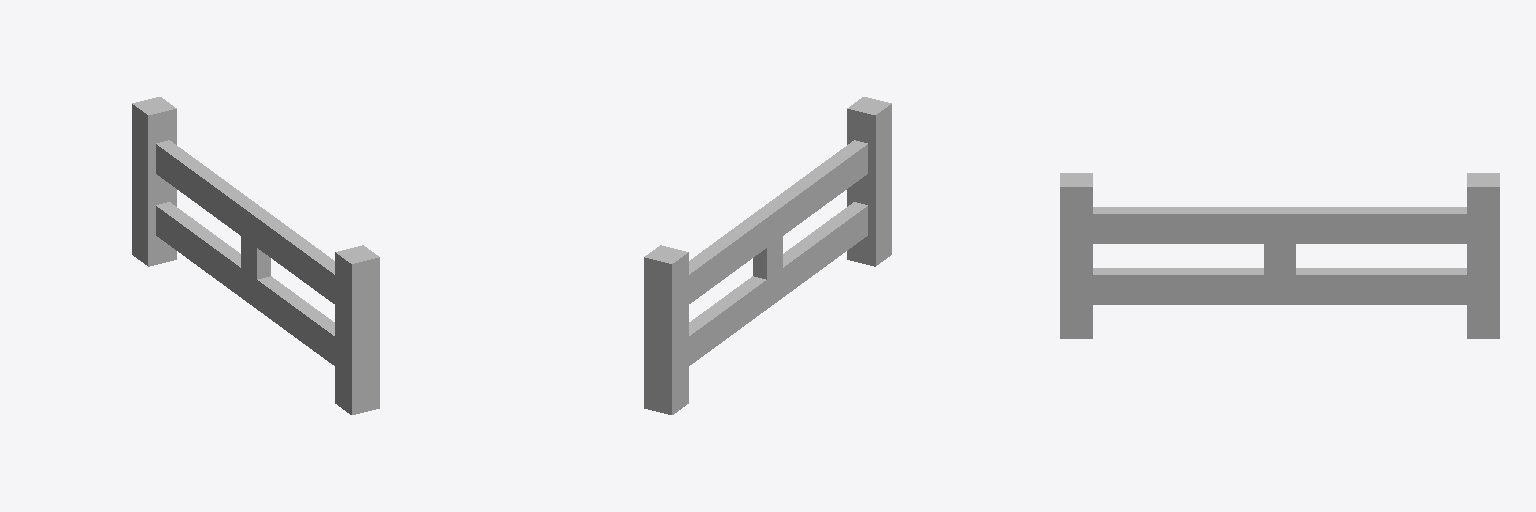
File: fence.obj
3 views of the same model, side by side, from view 1: azimuth 30°, elevation 25°; view 2: azimuth 150°, elevation 25°; view 3: azimuth 270°, elevation 25° (orthographic).
Parts seen in each view (by area): view 1: fence; view 2: fence; view 3: fence.
Part boxes in pixels (x1,y1,x2,y2): fence: (132, 97, 379, 414); fence: (644, 97, 891, 414); fence: (1060, 173, 1499, 338).
Bounding box in the file's own units: 0.075 × 0.38 × 1.